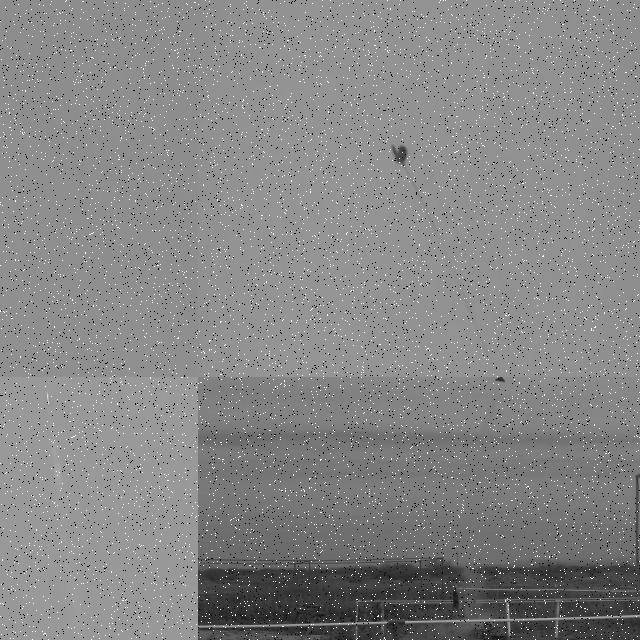Rocket: (450, 581, 462, 619), (460, 587, 472, 620), (470, 595, 480, 620), (494, 377, 509, 383), (46, 391, 50, 406)
